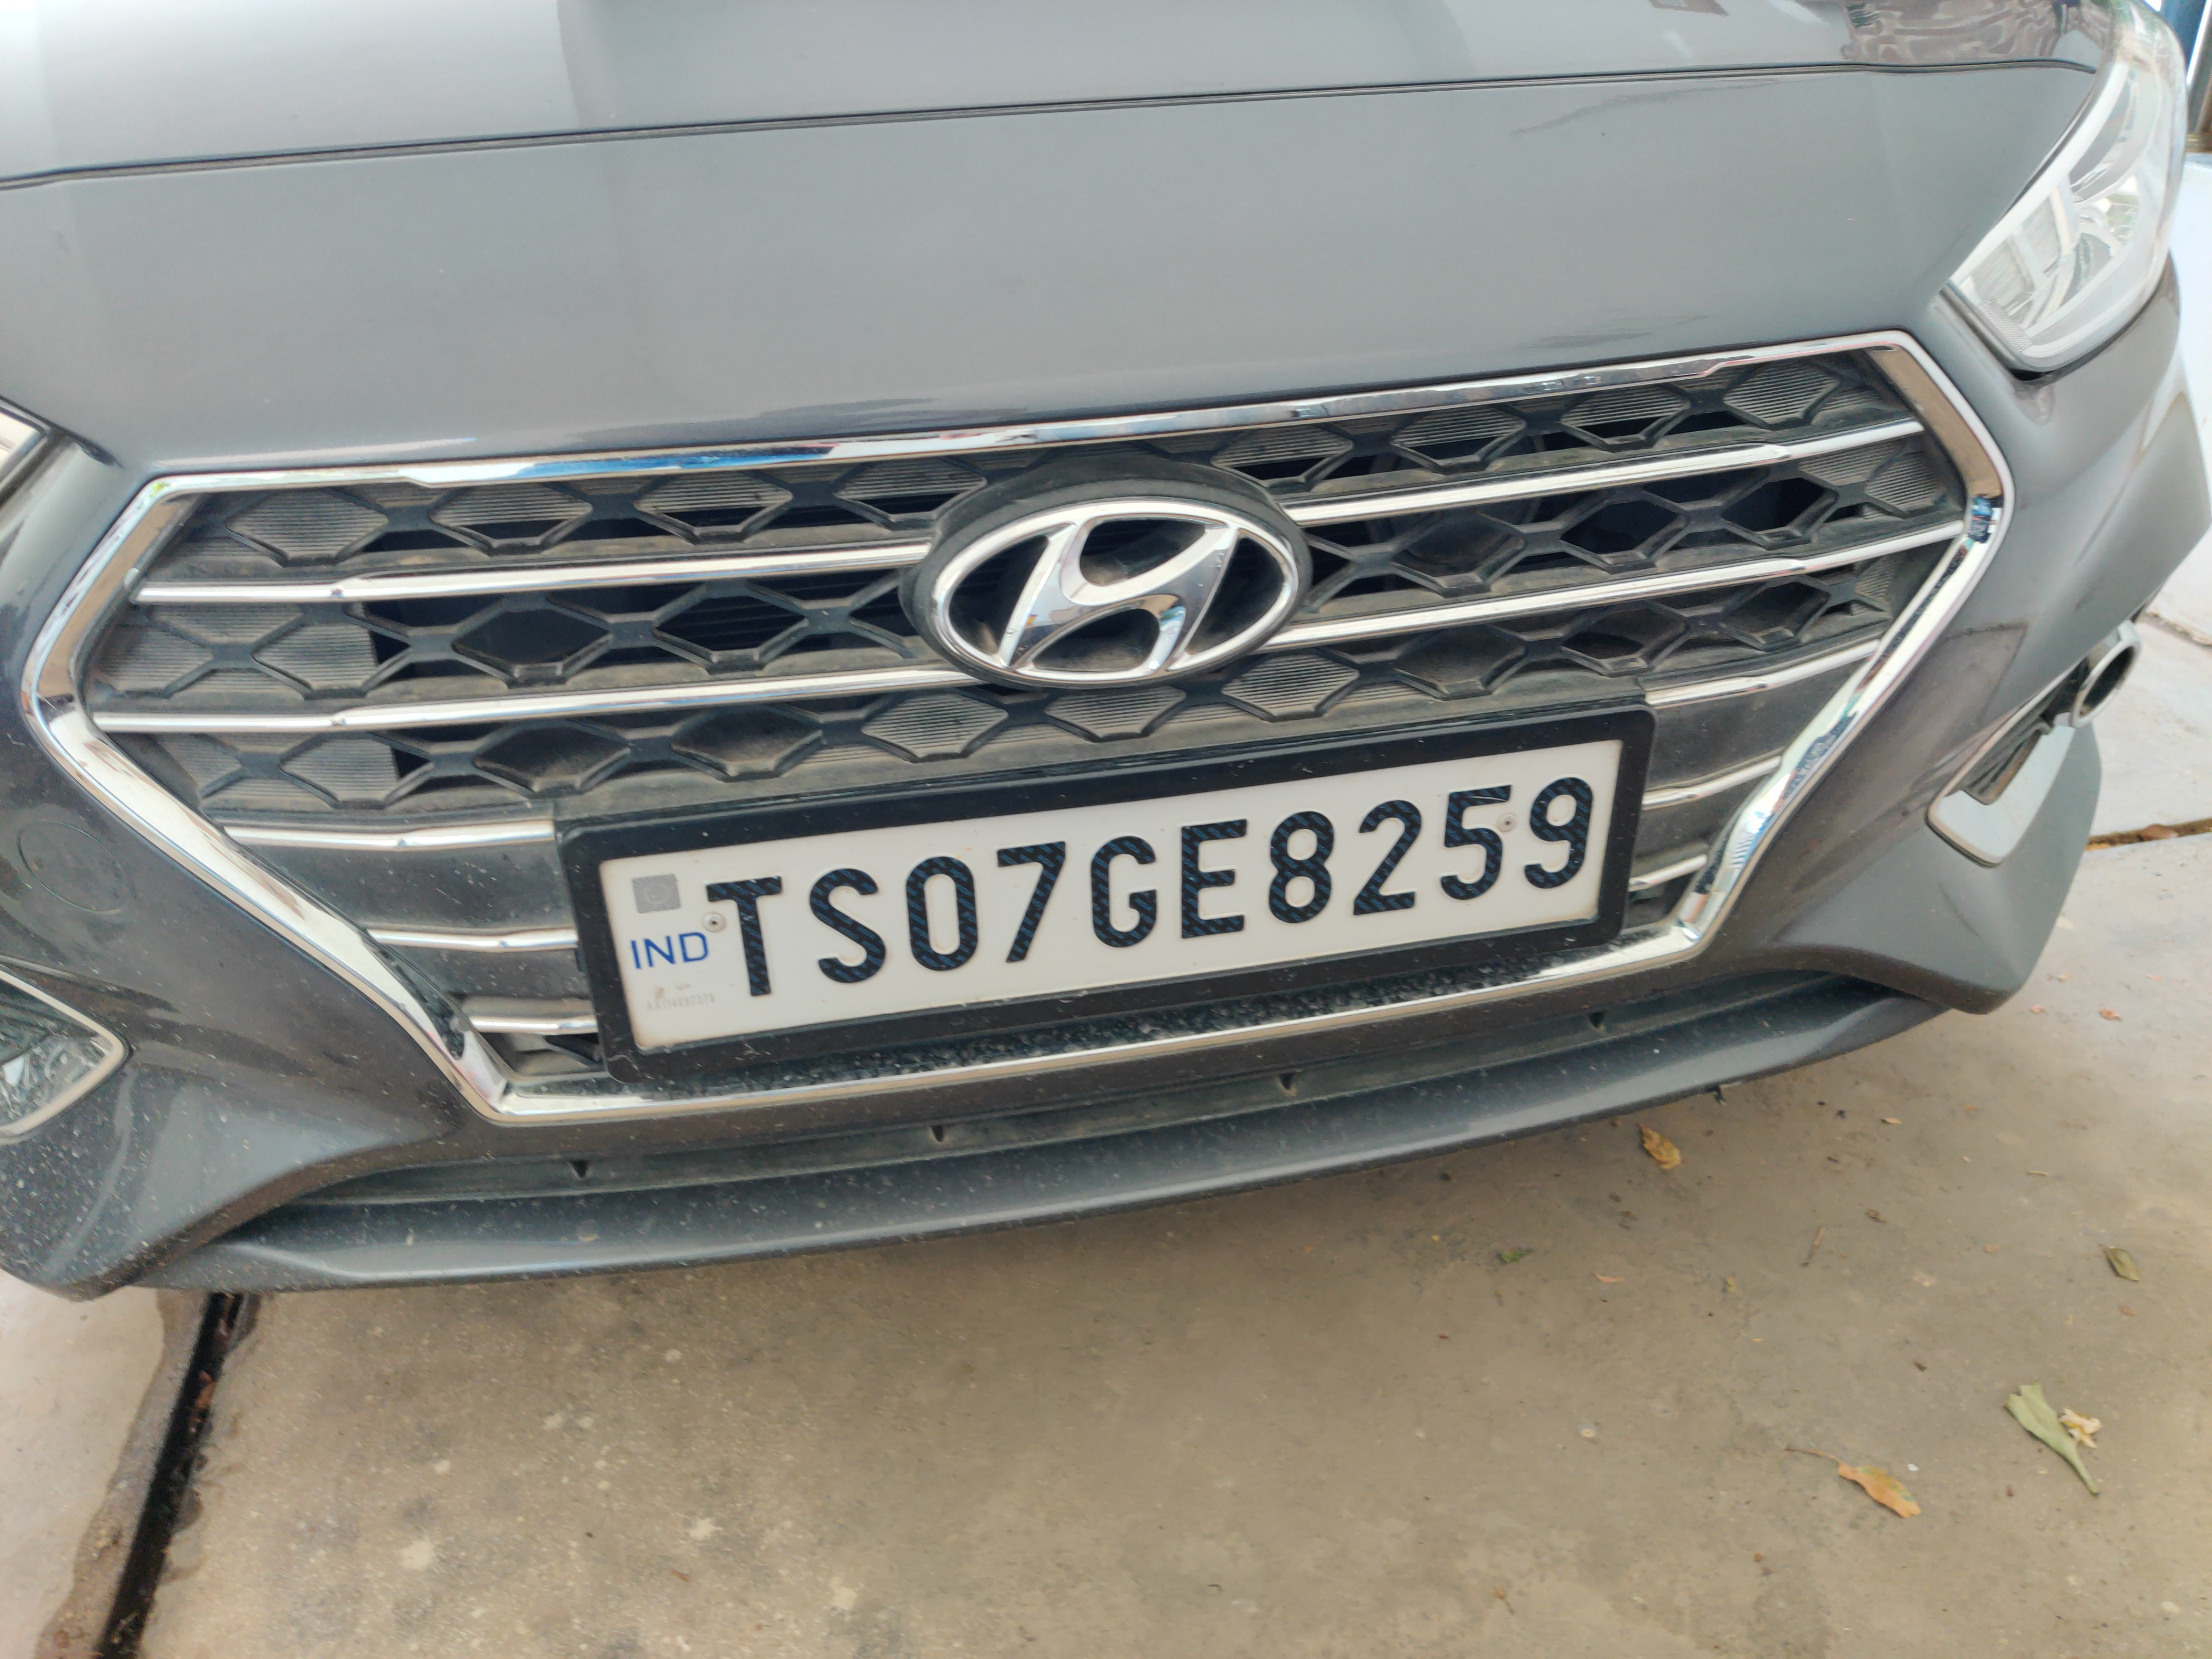plate: (553, 698, 1650, 1108)
